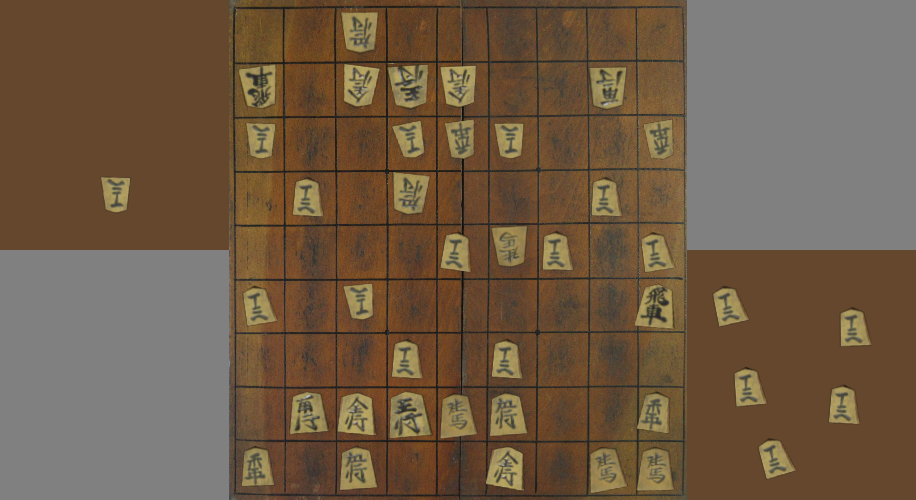A: (390, 392, 430, 438), (340, 447, 382, 489), (636, 285, 673, 328), (591, 449, 626, 493), (491, 394, 527, 436), (290, 393, 327, 433), (487, 448, 522, 490), (442, 395, 475, 438), (638, 449, 672, 490), (340, 394, 374, 435), (243, 288, 276, 325), (638, 394, 668, 432), (642, 235, 673, 271), (392, 341, 422, 378), (592, 179, 621, 216), (543, 233, 572, 270), (492, 341, 521, 378), (243, 449, 272, 485), (441, 235, 469, 271), (294, 180, 322, 216)
B: (389, 65, 428, 108), (590, 67, 626, 109), (341, 13, 378, 52), (344, 65, 379, 106), (394, 173, 429, 214), (240, 66, 274, 108), (442, 67, 475, 106), (493, 228, 526, 266), (393, 122, 423, 157), (446, 121, 473, 158), (645, 121, 672, 158), (344, 284, 372, 319), (495, 124, 522, 158), (248, 124, 275, 158)
C: (759, 440, 794, 478), (713, 288, 747, 326), (735, 369, 765, 406), (841, 309, 870, 345), (830, 387, 858, 424)
D: (102, 178, 129, 212)
